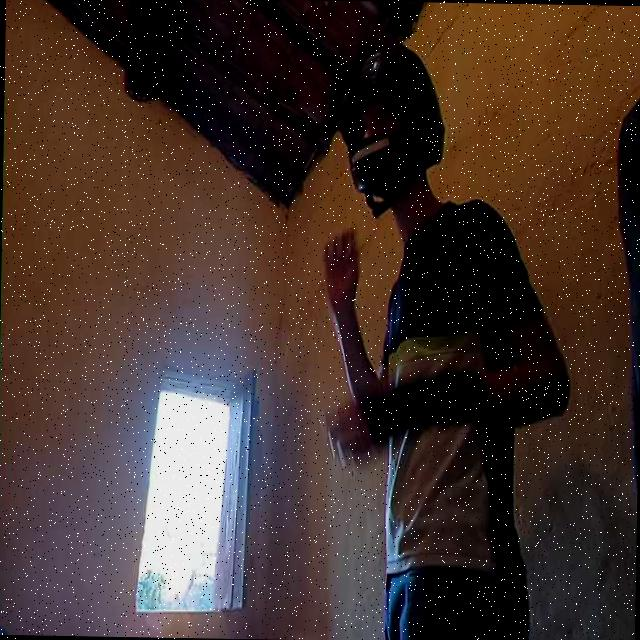capacete: (330, 38, 445, 207)
pessoa: (312, 44, 558, 640)
